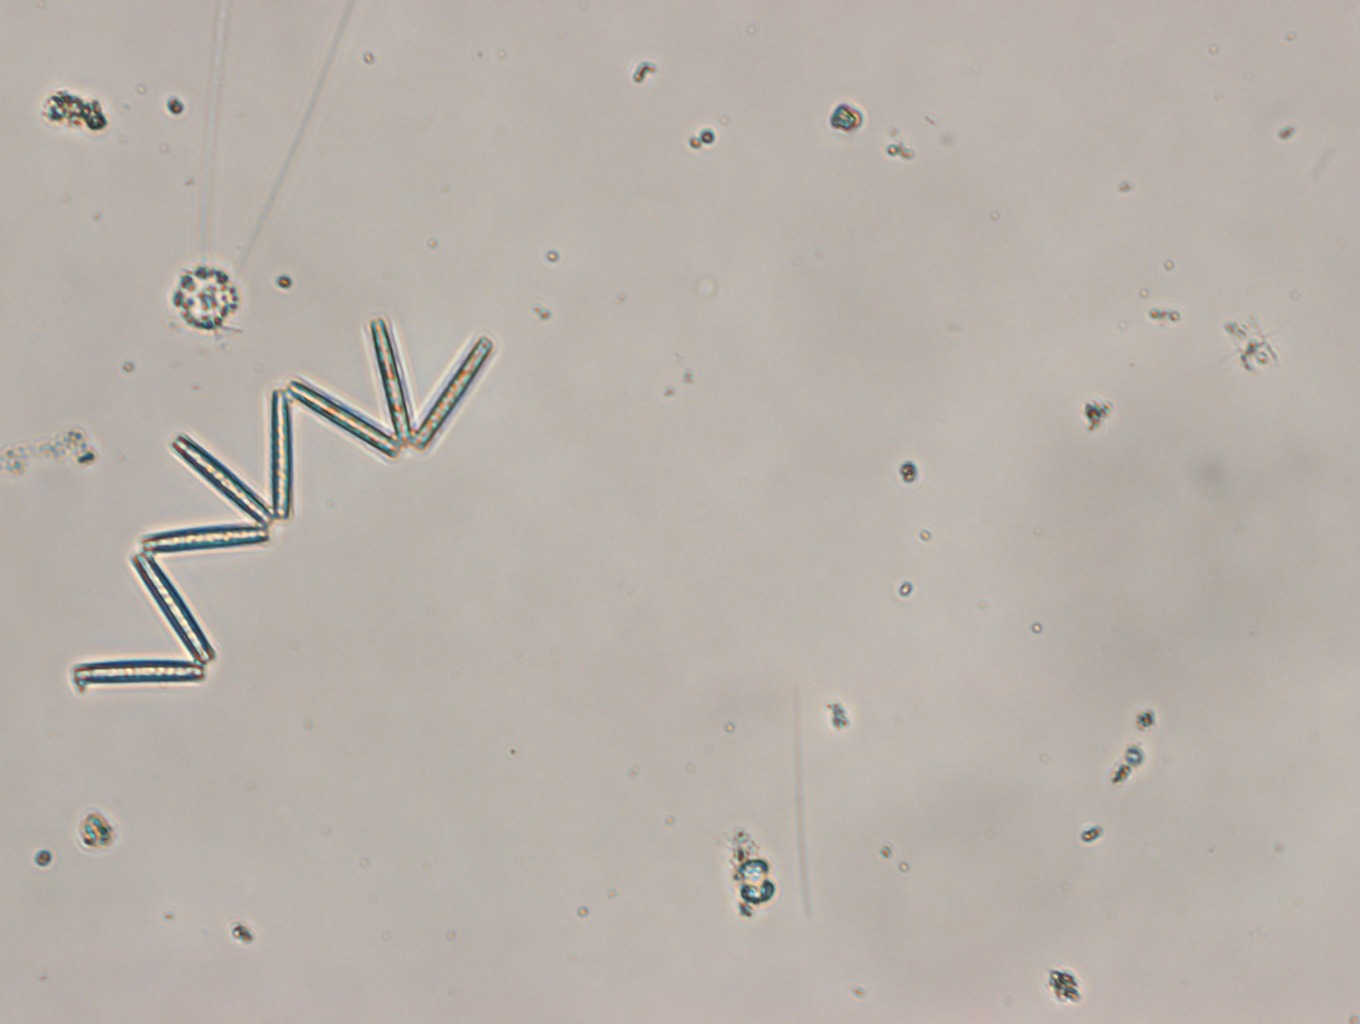thalassionema nitzschioides: (65, 325, 505, 702)
